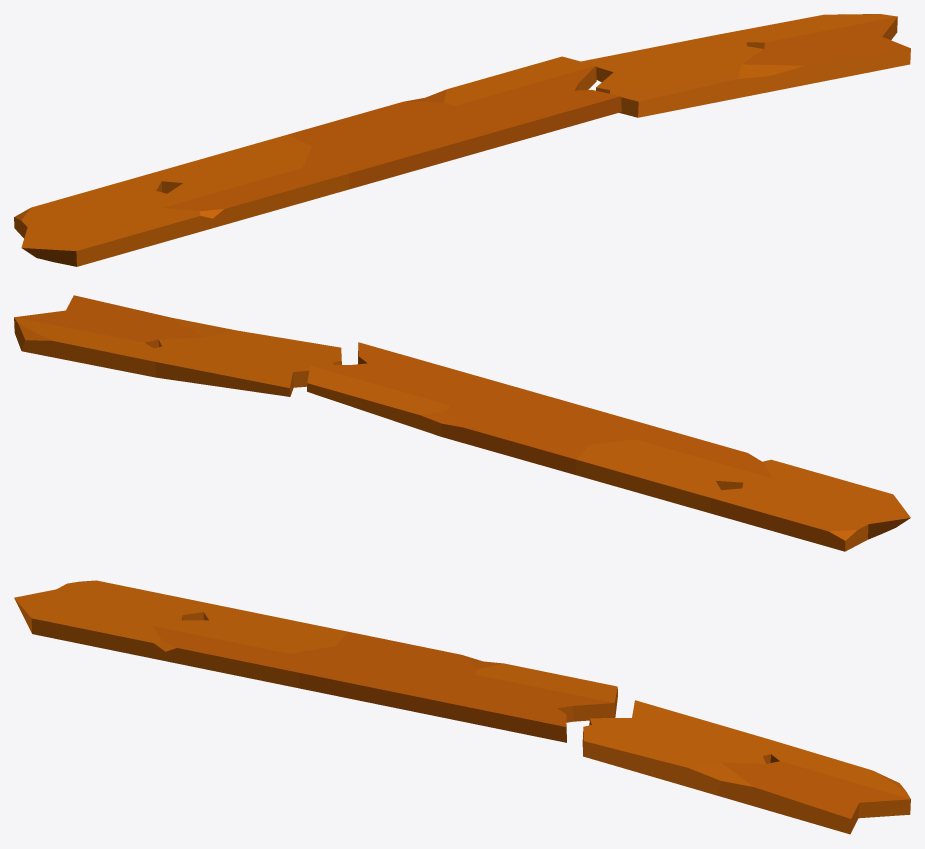
The model's file is Rotten and broken wood_13.fbx.
3 views of the same model, one above another, from view 1: azimuth 30°, elevation 25°; view 2: azimuth 150°, elevation 25°; view 3: azimuth 330°, elevation 25° (orthographic).
Parts seen in each view (by area): view 1: Cube.116, Cube.112; view 2: Cube.116, Cube.112; view 3: Cube.116, Cube.112.
Part boxes in pixels (x1=…): Cube.116: x1=14, y1=56, x2=621, y2=266; Cube.112: x1=581, y1=14, x2=910, y2=117; Cube.116: x1=307, y1=342, x2=910, y2=551; Cube.112: x1=14, y1=295, x2=341, y2=396; Cube.116: x1=14, y1=580, x2=617, y2=742; Cube.112: x1=582, y1=700, x2=910, y2=834.
Size of the model in its own units: 121 by 5.24 by 13.07.
